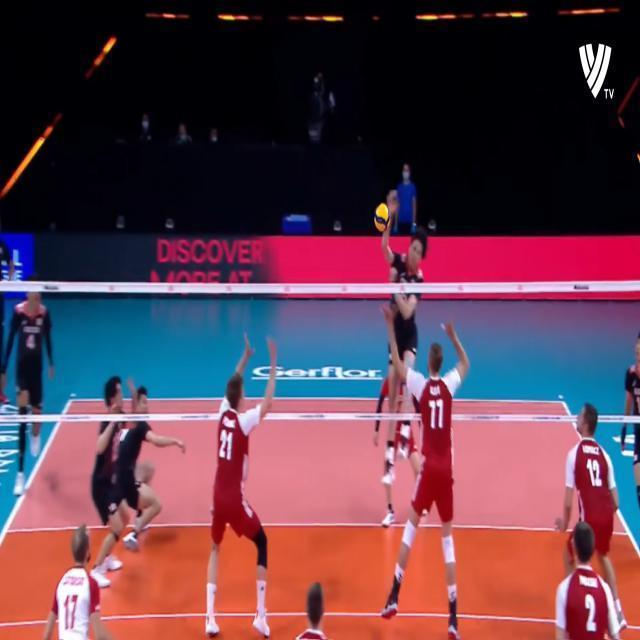volleyball: (374, 204, 390, 232)
